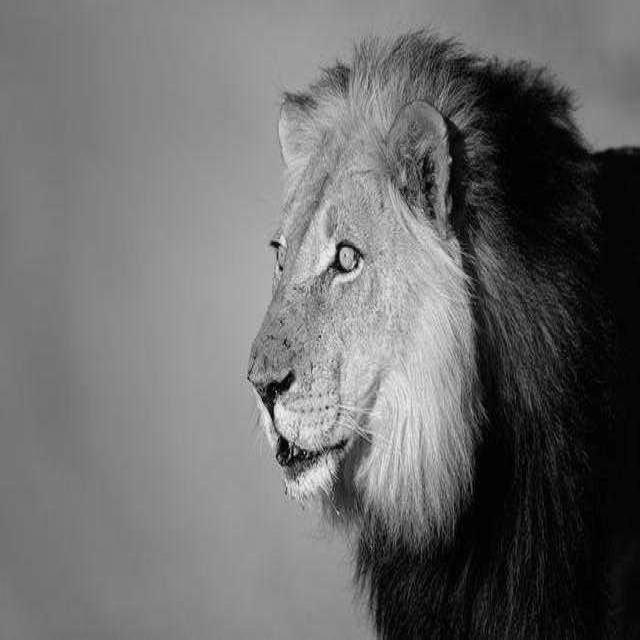Lion: (262, 33, 603, 627)
